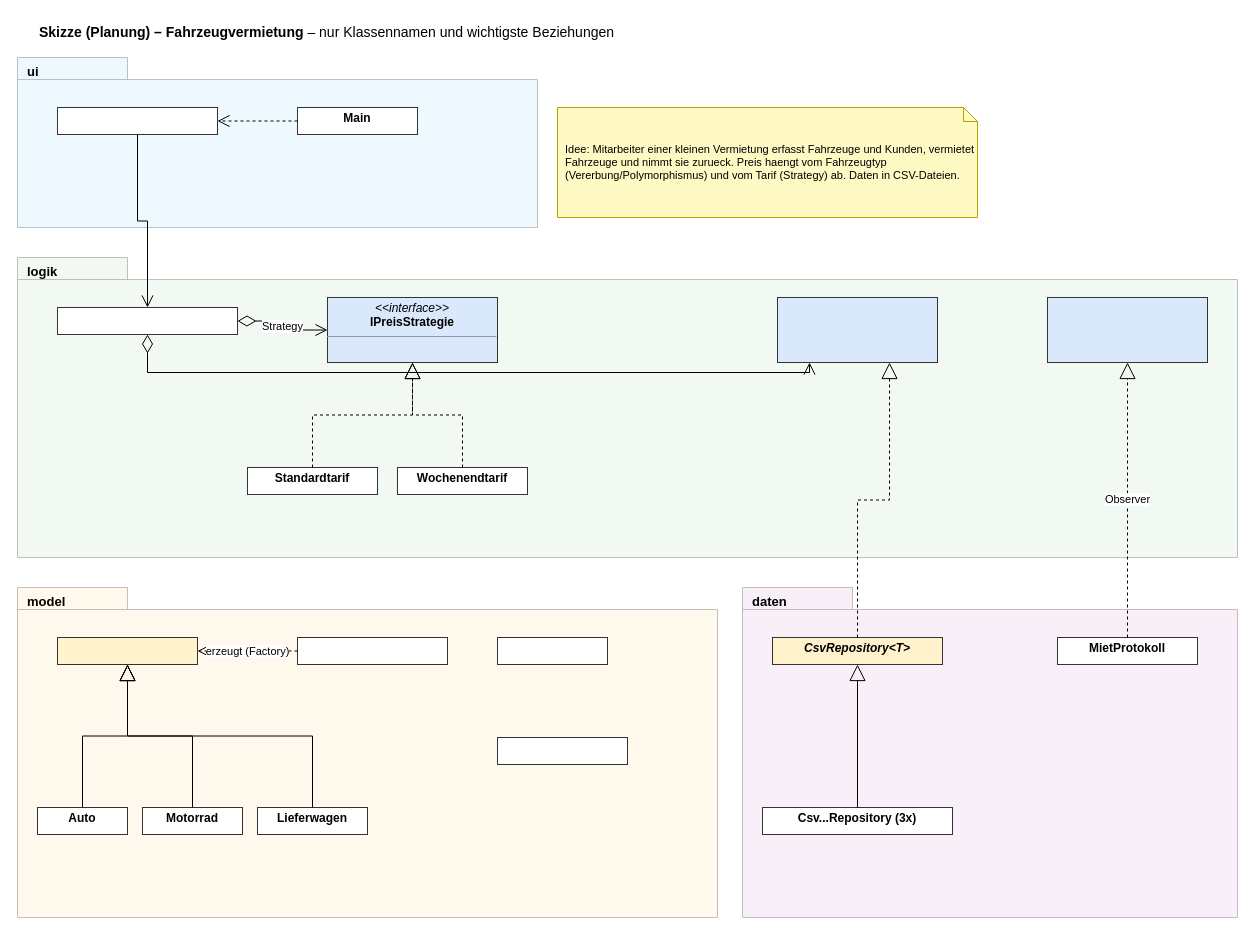
The diagram is 1255 pixels wide and 935 high, and some of its shapes have lost their labels. The shapes that lost their labels are listed below. From the top down, each one's centre as x and y in pixels, then its label:
At point 137,120: "KonsolenUI".
At point 147,320: "VermietungService".
At point 857,329: "<<interface>> IRepository<T>".
At point 1127,329: "<<interface>> IMietListener".
At point 127,650: "Fahrzeug".
At point 372,650: "FahrzeugFactory".
At point 552,650: "Kunde".
At point 562,750: "Mietvertrag".
